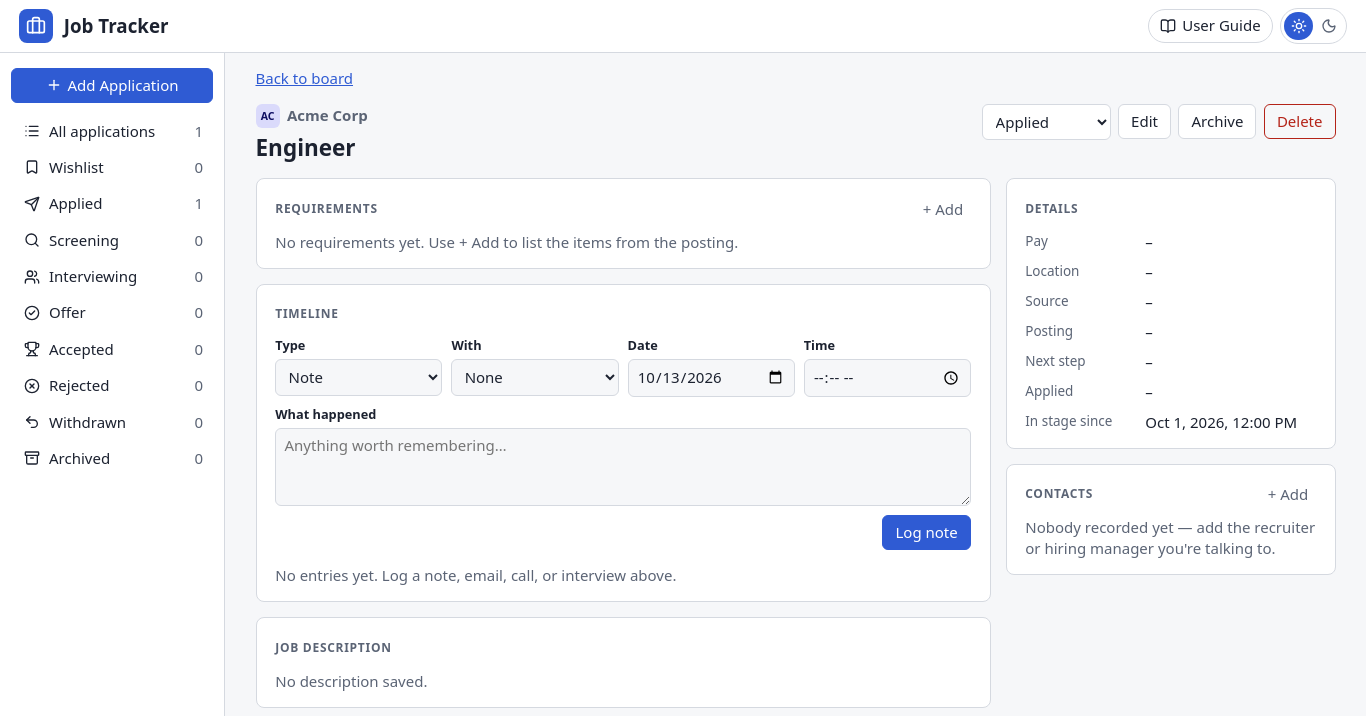
Test: the Contacts section › keeps what I typed when adding fails, and says why (AC-13)
The width and height of the screenshot is (1366, 716).
expect the element "Contacts" is shown: met, box 1006,464 -> 1336,575
Click the button with aria-label "Add contact" at [1288, 495], box 1260,480 -> 1316,509
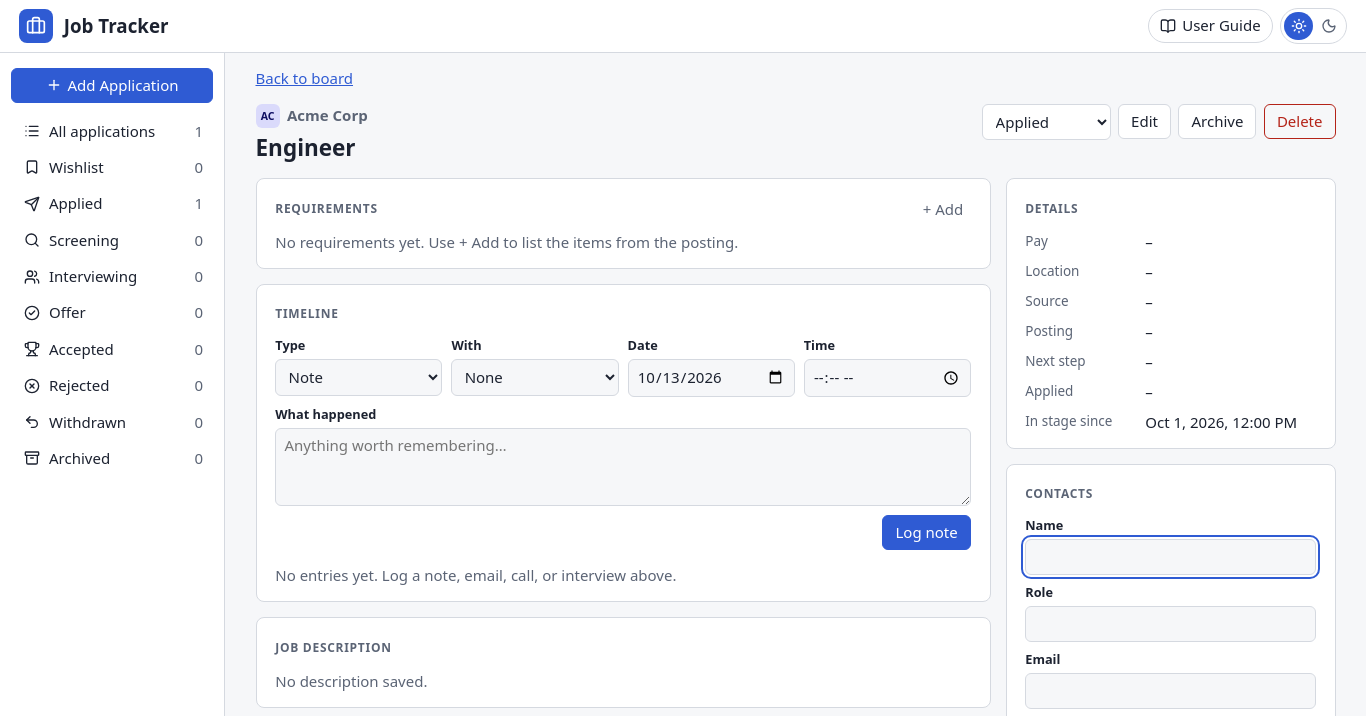
Type "Sam" into the field labelled "Name" at [1171, 557], box 1025,539 -> 1316,575
(page scrolled)
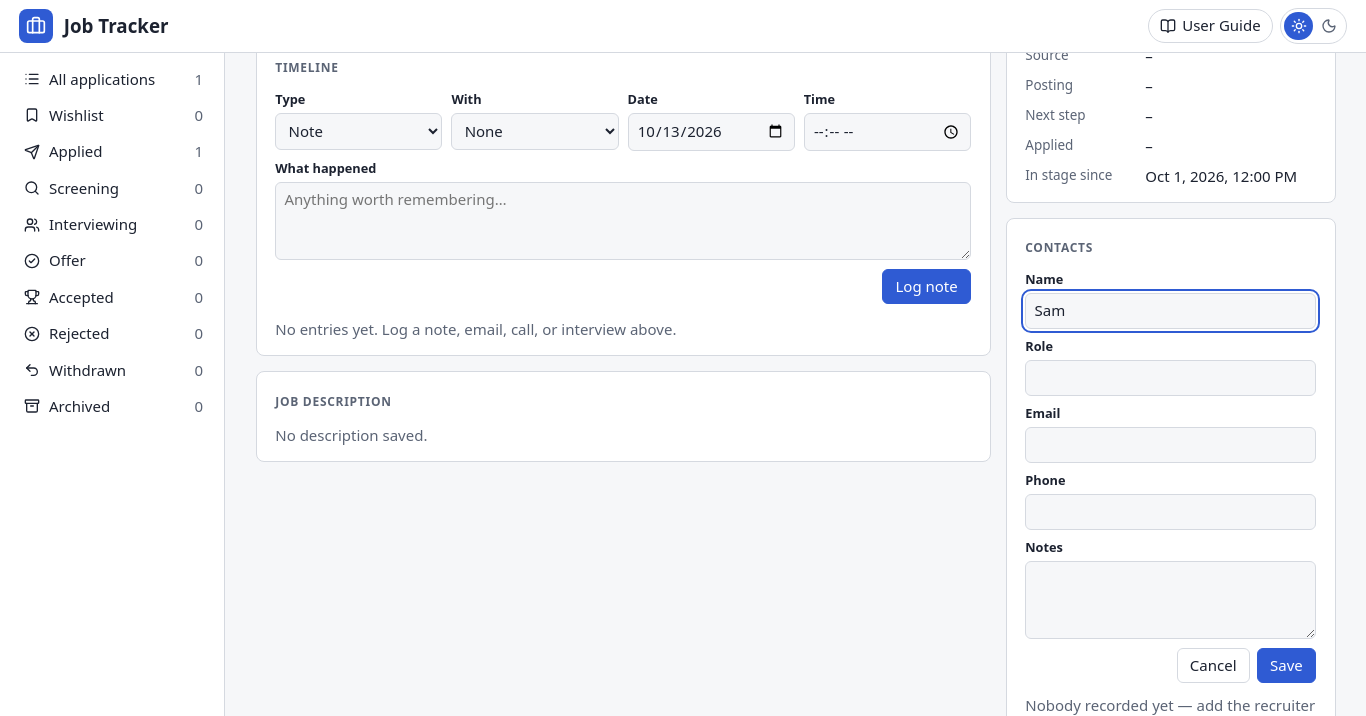
Click the button "Save" at [1286, 666], box 1257,648 -> 1316,684
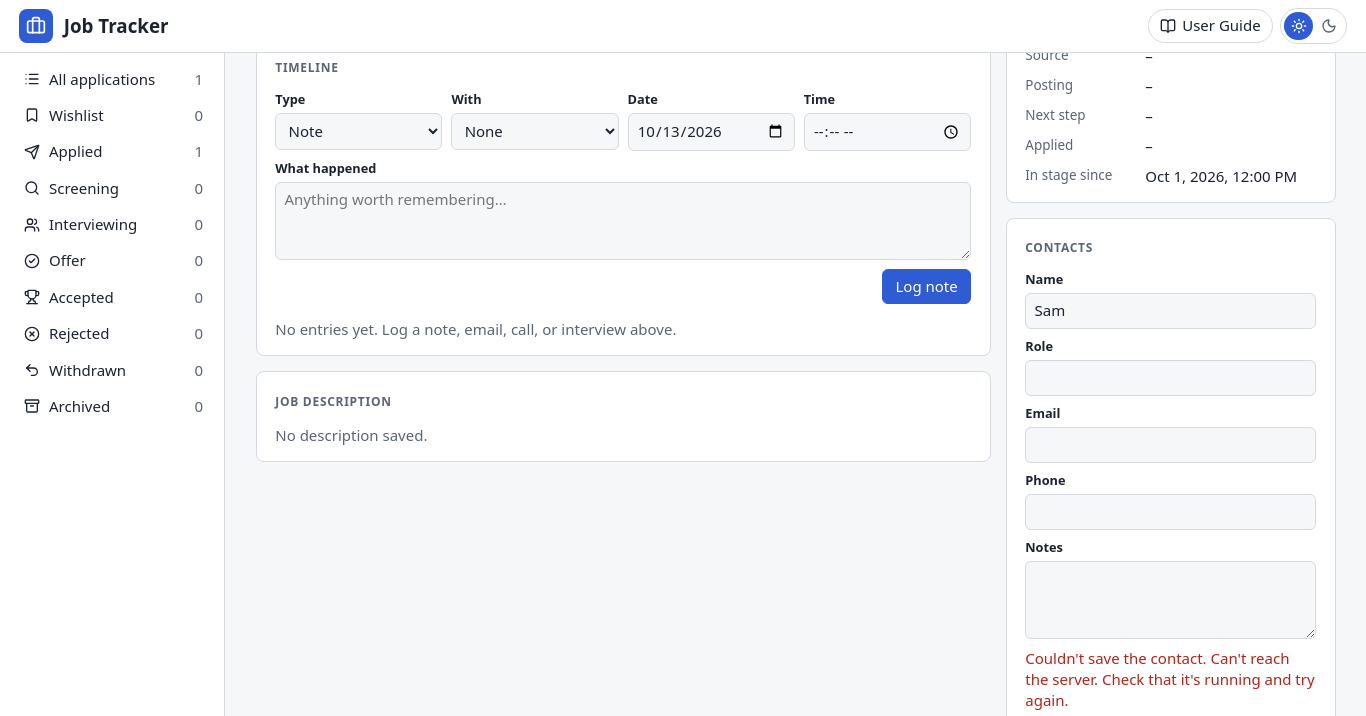
expect the message shows "Couldn't save the contact": met, box 1025,648 -> 1315,710
expect the message shows "Can't reach the server": met, box 1025,648 -> 1315,710
